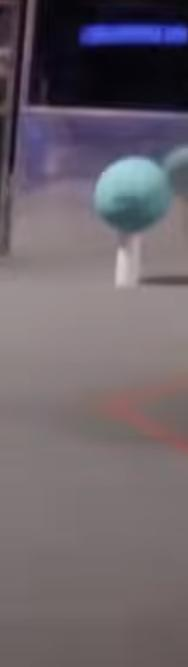algae: (92, 157, 171, 233)
coral: (117, 233, 139, 288)
